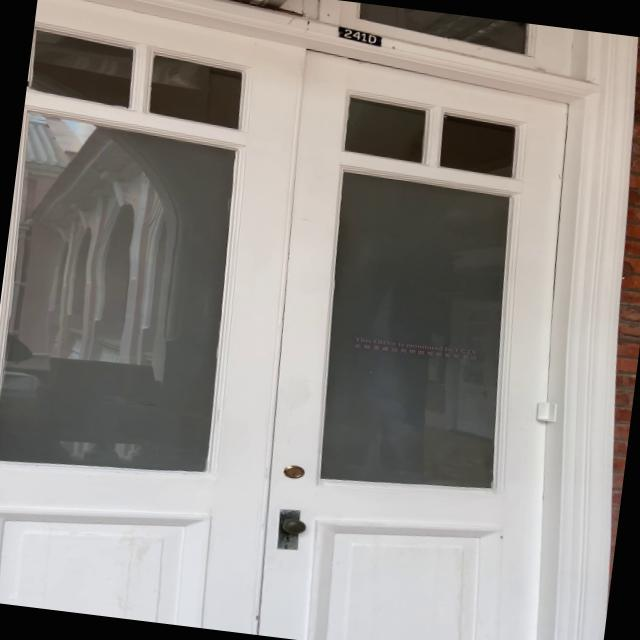room241d: (332, 22, 386, 48)
